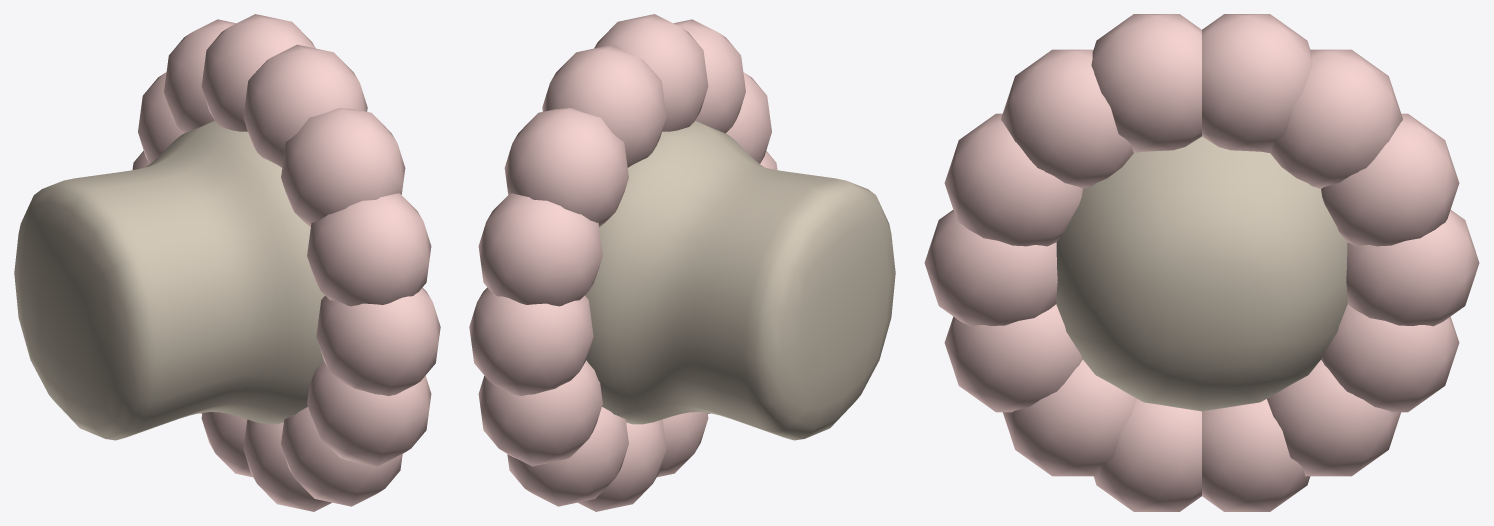
Rendered from cell.sucker.glb.
3 renders of one model, left to right at view 1: azimuth 30°, elevation 25°; view 2: azimuth 150°, elevation 25°; view 3: azimuth 270°, elevation 25°, orthographic. The views are drawn at different scales.
Visible parts, largest first — view 1: Skin, Pad; view 2: Skin, Pad; view 3: Pad, Skin.
Boxes of the visible parts, x1,y1,x2,y2 form: Skin: (14, 121, 324, 440); Pad: (132, 14, 440, 511); Skin: (585, 121, 895, 440); Pad: (469, 14, 777, 511); Pad: (924, 14, 1479, 511); Skin: (1056, 136, 1347, 411).
Size of the model in its own units: 0.3068 by 0.4025 by 0.41.
